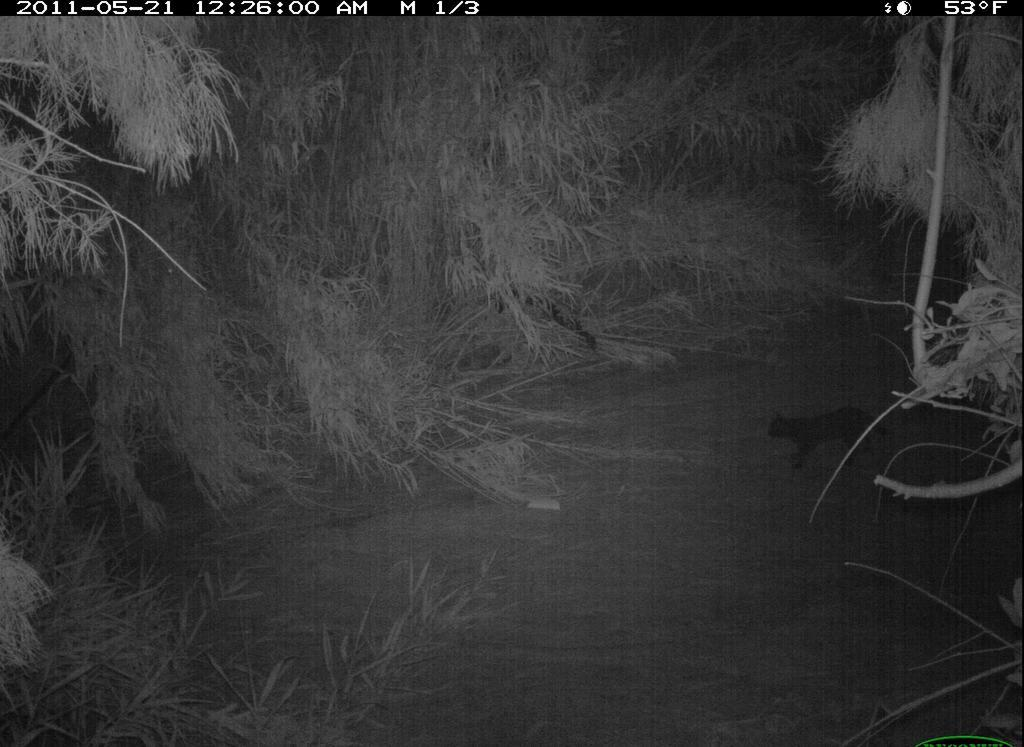cat: (761, 399, 899, 474)
